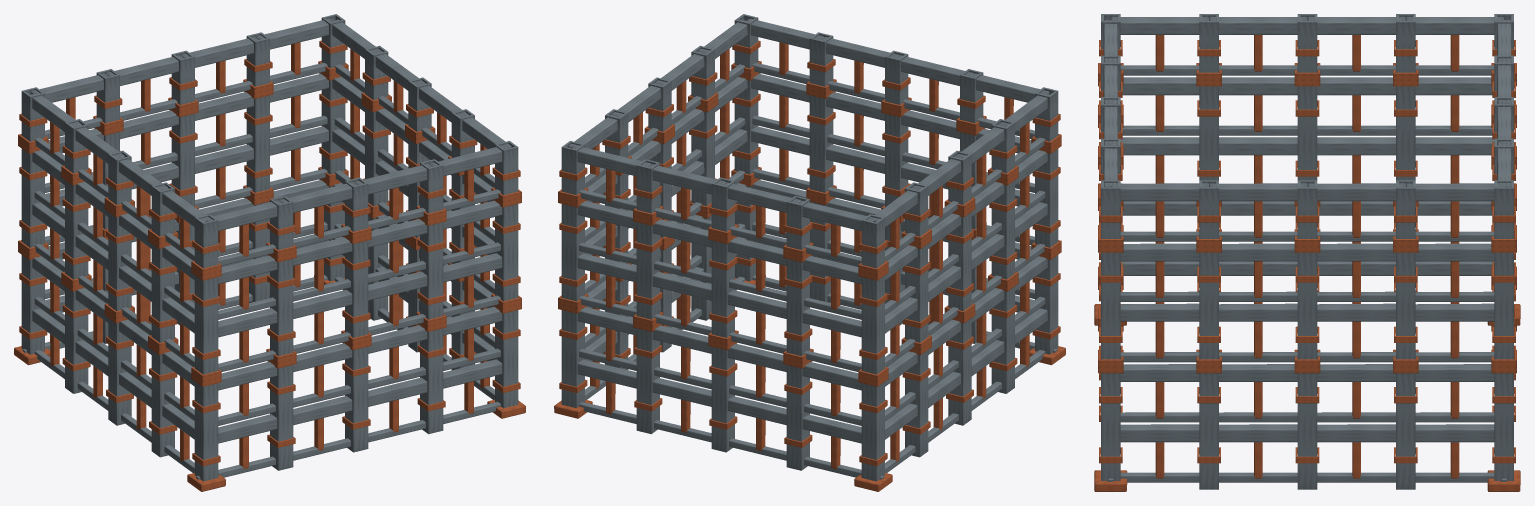
3 renders of one model, left to right at view 1: azimuth 30°, elevation 25°; view 2: azimuth 150°, elevation 25°; view 3: azimuth 270°, elevation 25°, orthographic. The views are drawn at different scales.
Visible parts, largest first — view 1: Tier 0 side 0 post 0, Tier 1 side 0 post 0, Tier 0 side 0 post 1, Tier 0 side 0 post 2, Tier 0 side 0 post 3, Tier 0 side 1 post 0, Tier 1 side 0 post 1, Tier 1 side 1 post 0, Tier 1 side 0 post 2, Tier 1 side 0 post 3, Tier 1 side 2 post 1, Tier 0 side 3 post 3 (+86 smaller); view 2: Tier 0 side 3 post 0, Tier 1 side 3 post 0, Tier 0 side 2 post 2, Tier 0 side 2 post 3, Tier 0 side 2 post 1, Tier 1 side 0 post 3, Tier 0 side 2 post 0, Tier 1 side 2 post 2, Tier 1 side 2 post 0, Tier 1 side 2 post 3, Tier 1 side 2 post 1, Tier 0 side 3 post 1 (+85 smaller); view 3: Tier 0 side 1 post 2, Tier 0 side 1 post 1, Tier 0 side 1 post 3, Tier 1 side 1 post 2, Tier 0 side 1 post 0, Tier 0 side 2 post 0, Tier 1 side 1 post 0, Tier 1 side 1 post 1, Tier 1 side 1 post 3, Tier 1 side 2 post 0, Tier 1 side 3 post 2, Tier 1 side 3 post 1 (+87 smaller).
Boxes of the visible parts, left/top/right/bottom form: Tier 0 side 0 post 0: left=194, top=381, right=218, bottom=481; Tier 1 side 0 post 0: left=194, top=275, right=218, bottom=374; Tier 0 side 0 post 1: left=270, top=365, right=293, bottom=470; Tier 0 side 0 post 2: left=345, top=346, right=368, bottom=452; Tier 0 side 0 post 3: left=420, top=328, right=443, bottom=434; Tier 0 side 1 post 0: left=495, top=310, right=518, bottom=408; Tier 1 side 0 post 1: left=270, top=259, right=293, bottom=356; Tier 1 side 1 post 0: left=495, top=204, right=518, bottom=301; Tier 1 side 0 post 2: left=345, top=240, right=368, bottom=337; Tier 1 side 0 post 3: left=420, top=222, right=443, bottom=319; Tier 1 side 2 post 1: left=246, top=95, right=269, bottom=192; Tier 0 side 3 post 3: left=151, top=350, right=174, bottom=457; Tier 0 side 3 post 0: left=861, top=382, right=884, bottom=481; Tier 1 side 3 post 0: left=861, top=275, right=884, bottom=374; Tier 0 side 2 post 2: left=711, top=346, right=734, bottom=452; Tier 0 side 2 post 3: left=786, top=365, right=809, bottom=470; Tier 0 side 2 post 1: left=636, top=328, right=659, bottom=434; Tier 1 side 0 post 3: left=809, top=95, right=833, bottom=192; Tier 0 side 2 post 0: left=561, top=310, right=584, bottom=408; Tier 1 side 2 post 2: left=711, top=240, right=734, bottom=337; Tier 1 side 2 post 0: left=561, top=204, right=584, bottom=301; Tier 1 side 2 post 3: left=786, top=259, right=809, bottom=356; Tier 1 side 2 post 1: left=636, top=222, right=659, bottom=319; Tier 0 side 3 post 1: left=905, top=350, right=928, bottom=457; Tier 0 side 1 post 2: left=1297, top=373, right=1317, bottom=489; Tier 0 side 1 post 1: left=1199, top=373, right=1218, bottom=489; Tier 0 side 1 post 3: left=1396, top=373, right=1415, bottom=489; Tier 1 side 1 post 2: left=1297, top=252, right=1317, bottom=359; Tier 0 side 1 post 0: left=1101, top=373, right=1120, bottom=480; Tier 0 side 2 post 0: left=1494, top=373, right=1513, bottom=480; Tier 1 side 1 post 0: left=1101, top=252, right=1120, bottom=359; Tier 1 side 1 post 1: left=1199, top=252, right=1218, bottom=359; Tier 1 side 1 post 3: left=1396, top=252, right=1415, bottom=359; Tier 1 side 2 post 0: left=1494, top=252, right=1513, bottom=359; Tier 1 side 3 post 2: left=1297, top=86, right=1317, bottom=180; Tier 1 side 3 post 1: left=1396, top=86, right=1415, bottom=180.
Bounding box in the file's own units: 1.95 × 1.52 × 1.95.
2 materials, 2 textured.
